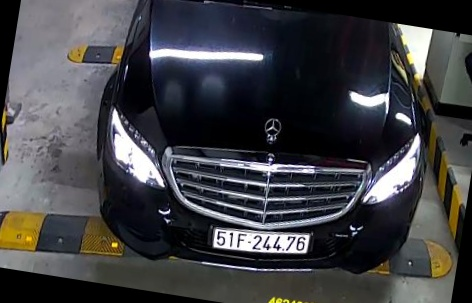plate: (206, 217, 318, 262)
